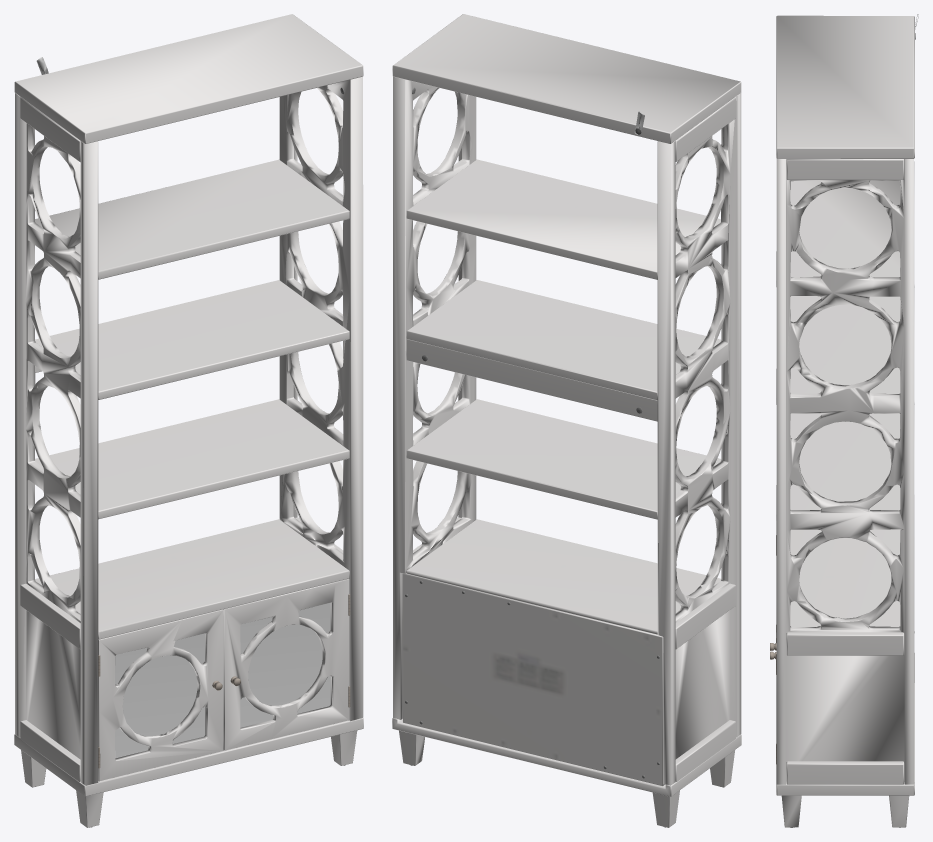
3 views of the same model, side by side, from view 1: azimuth 30°, elevation 25°; view 2: azimuth 150°, elevation 25°; view 3: azimuth 270°, elevation 25° (orthographic). The views are drawn at different scales.
Parts seen in each view (by area): view 1: RootNode; view 2: RootNode; view 3: RootNode.
Part boxes in pixels (<box>): RootNode: <box>14,14,363,827</box>; RootNode: <box>392,14,741,827</box>; RootNode: <box>770,14,918,827</box>.
Bounding box in the file's own units: 0.745 × 1.83 × 0.3523.
Materials: 1 (1 with a texture image).
